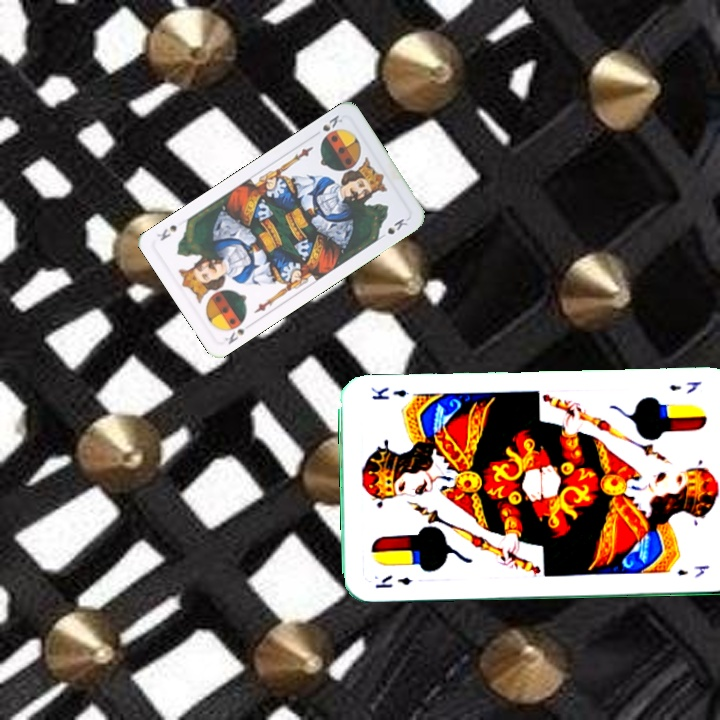EK: (371, 571, 414, 590), (665, 378, 704, 396)
SK: (221, 319, 255, 347), (318, 111, 345, 134)
